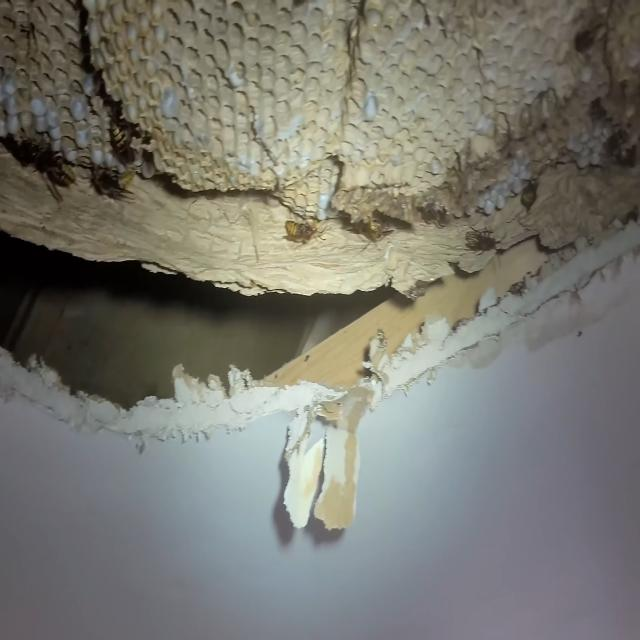Hornets: (280, 212, 328, 250), (462, 222, 508, 256)
